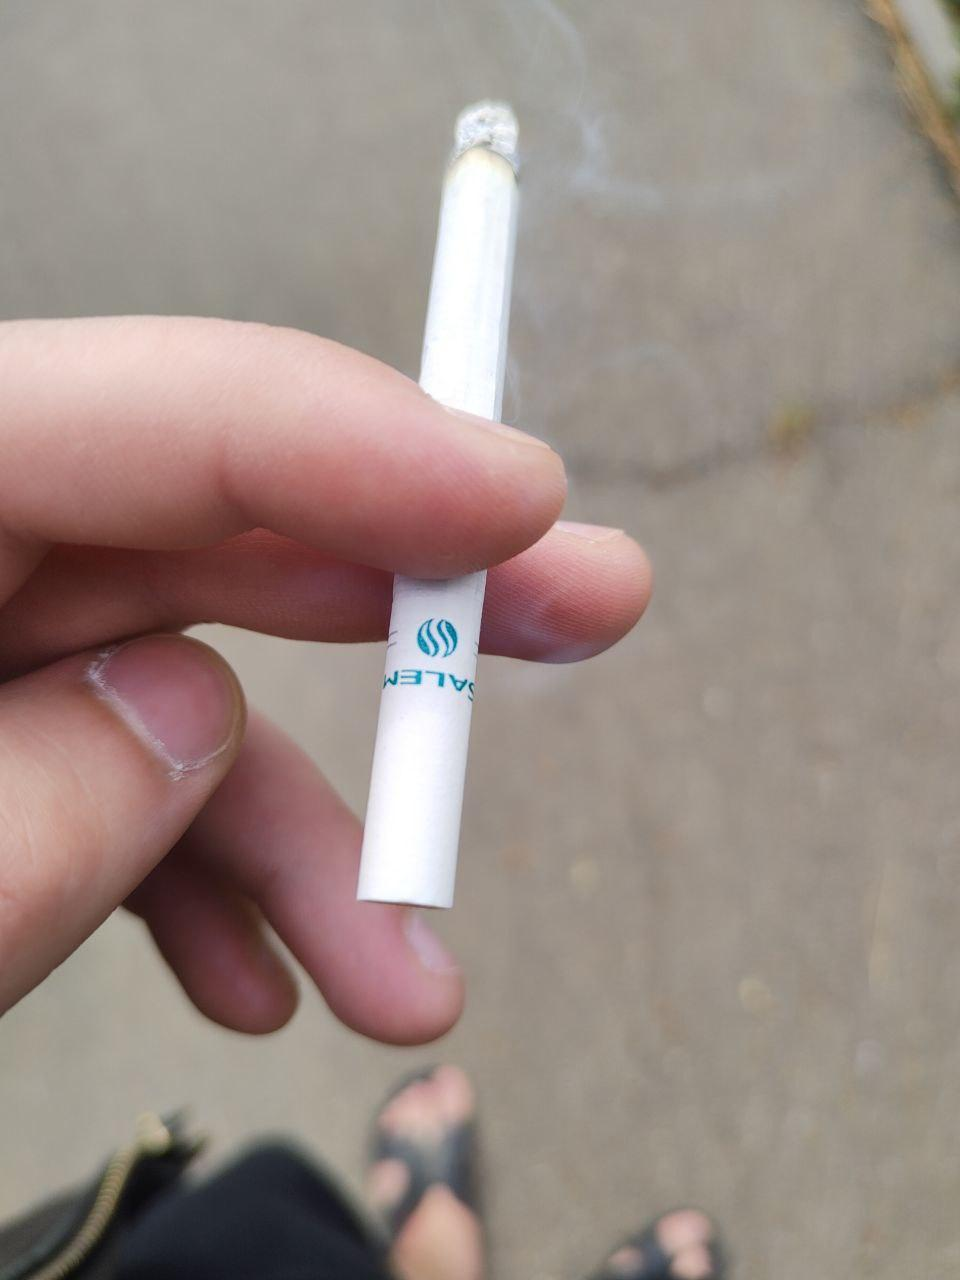cigarette: (353, 103, 523, 909)
